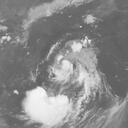cyclone: (44, 45, 96, 90)
